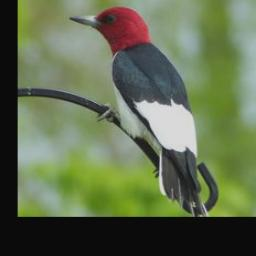Woodpecker: (66, 5, 212, 216)
